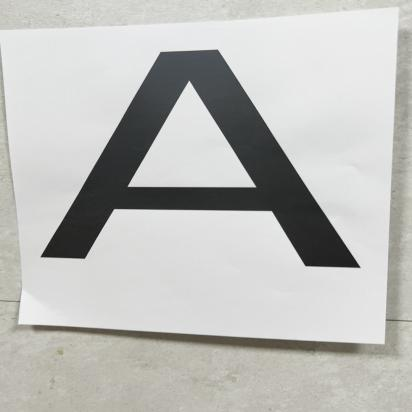seat: (26, 39, 361, 288)
